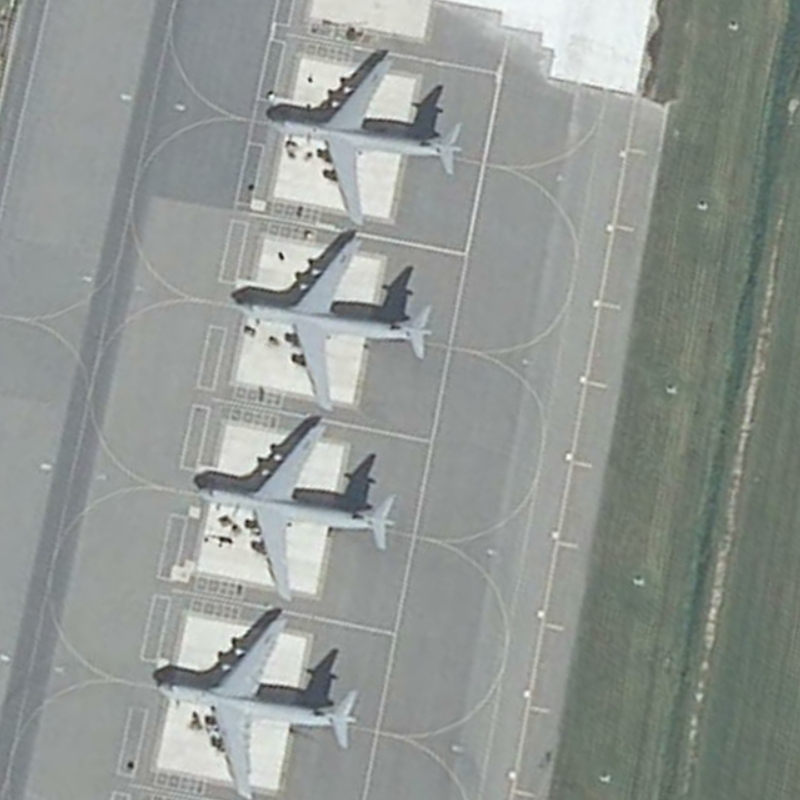A4: (187, 411, 400, 611), (145, 609, 363, 800), (220, 232, 440, 415), (265, 46, 465, 229)
